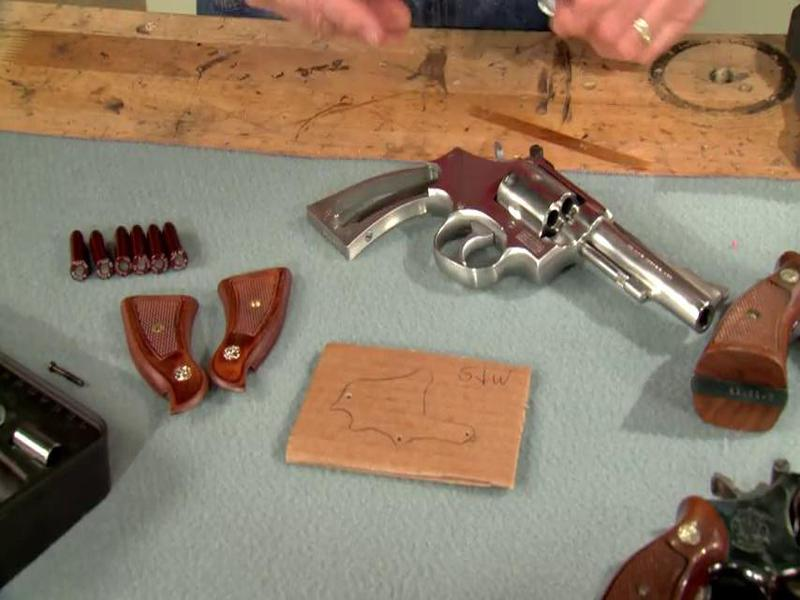Revolver: (274, 103, 714, 368)
